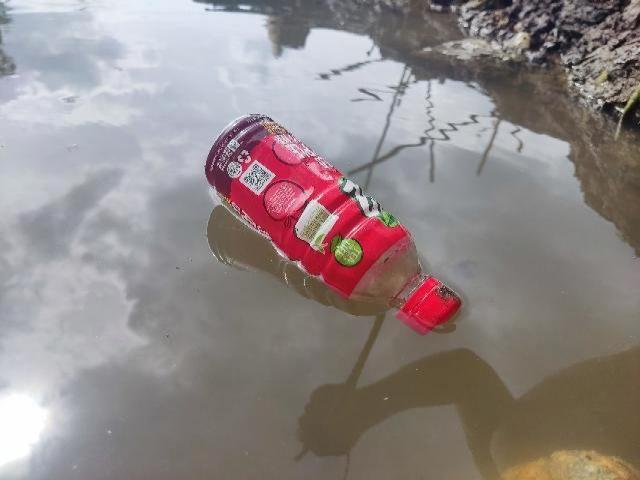Bottle: (205, 107, 467, 335)
